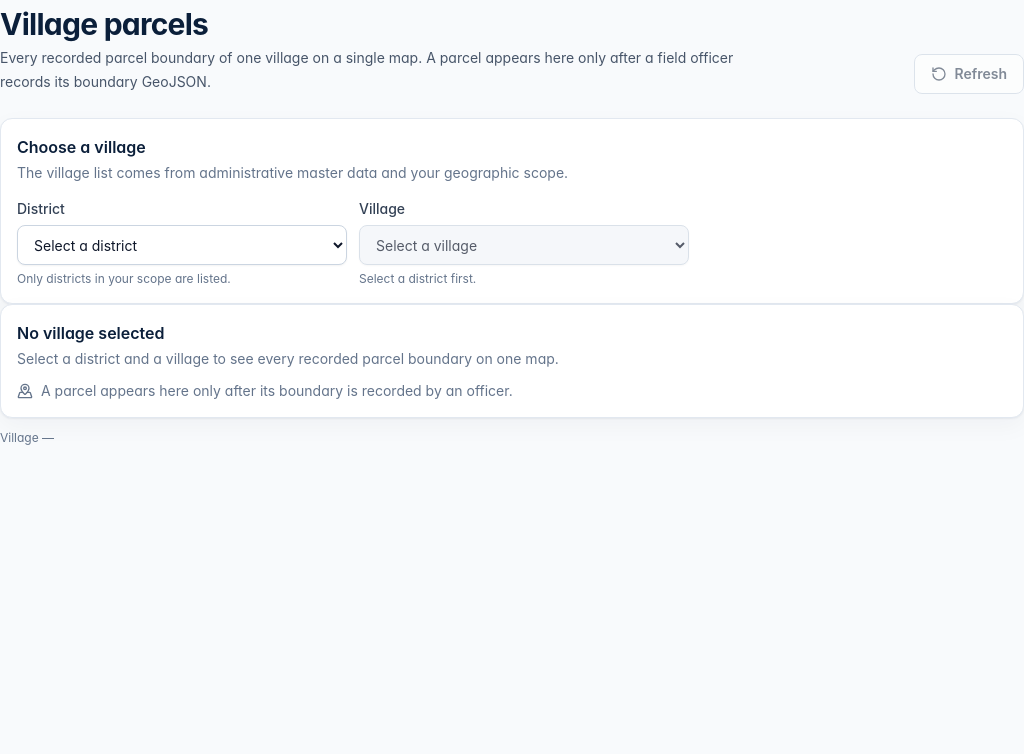
Test: VillageParcelsPage › draws every recorded boundary of the chosen village
Expected: the heading "Village parcels" is shown, [0,6,208,42]
Select "Pune" in the dropdown labelled "District" at (182, 245), box [17,225,347,265]
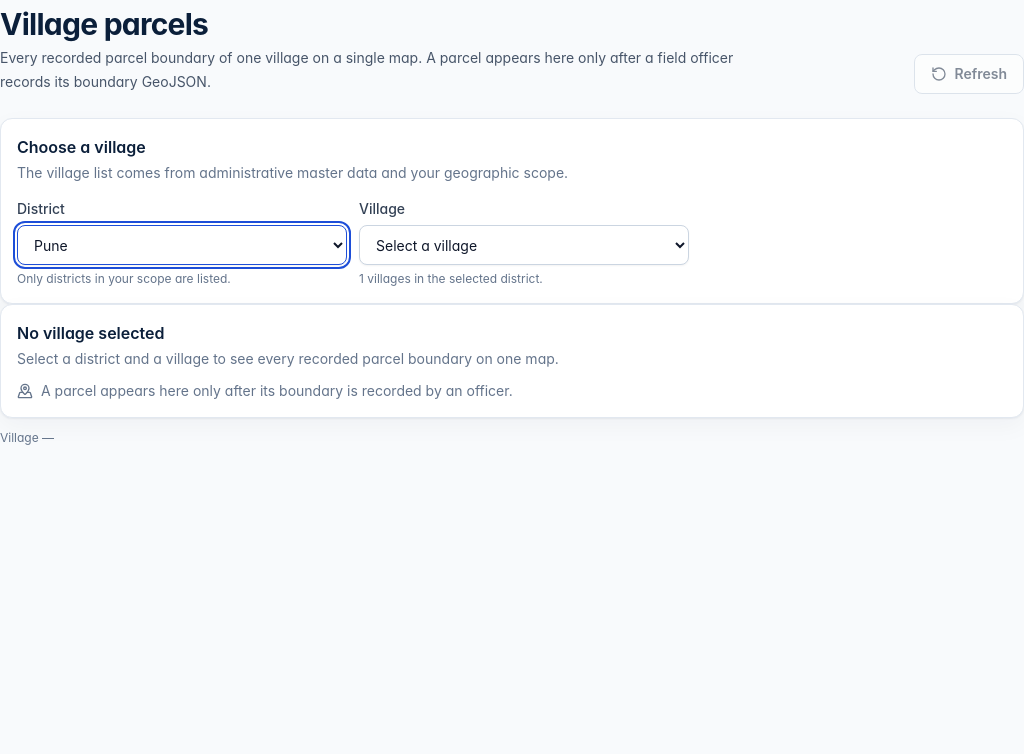
Select "Village One" in the dropdown labelled "Village" at (524, 245), box [359,225,689,265]
(page scrolled)
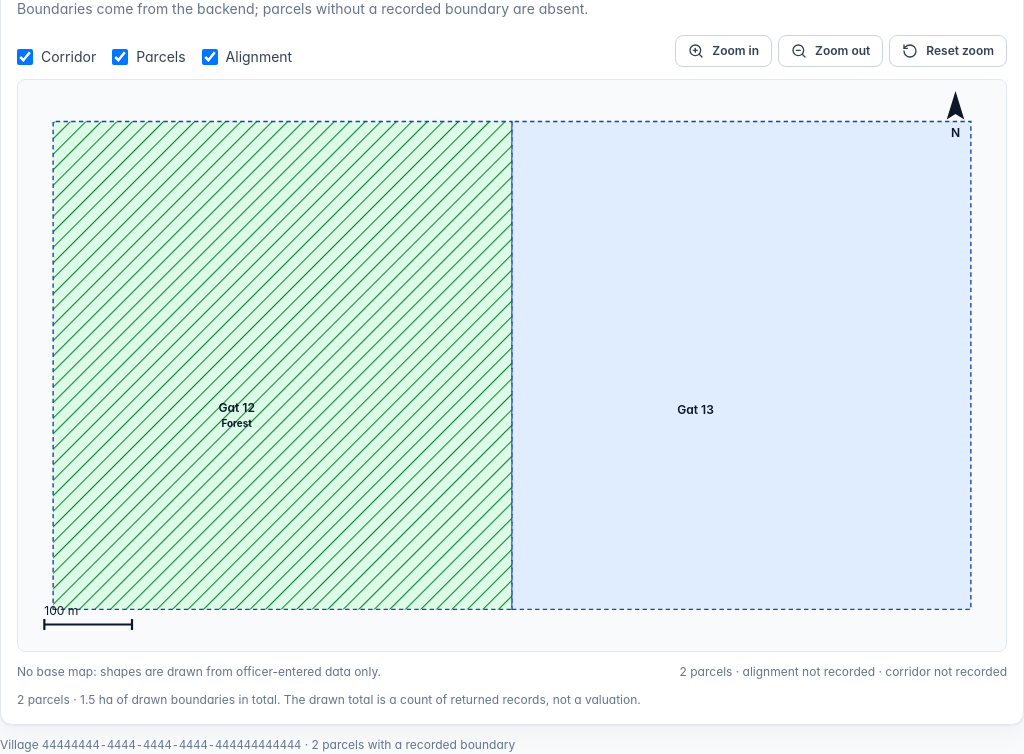
Now the text "2 parcels · 1.5 ha of drawn boundaries" is shown, box [17,692,641,707]
